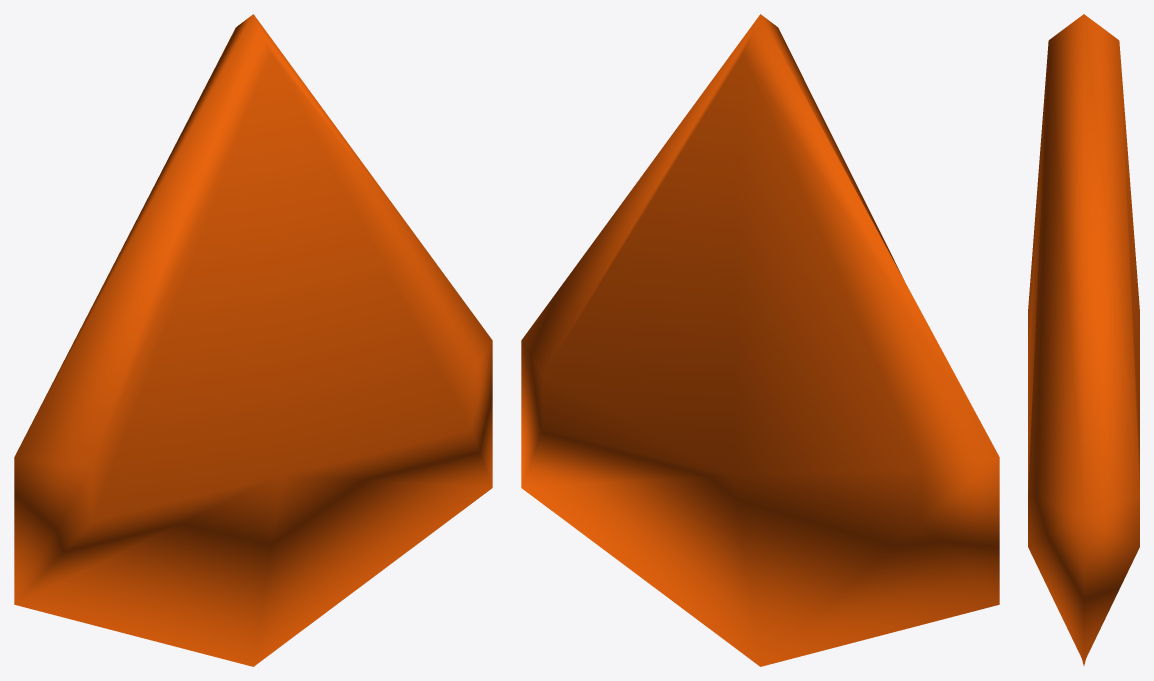
Rendered from arrowUp.fbx.
The picture shows the model from 3 angles, left to right: view 1: azimuth 30°, elevation 25°; view 2: azimuth 150°, elevation 25°; view 3: azimuth 270°, elevation 25°; orthographic projection.
Parts seen in each view (by area): view 1: arrow; view 2: arrow; view 3: arrow.
Boxes of the visible parts, left/top/right/bottom form: arrow: left=14, top=14, right=492, bottom=666; arrow: left=521, top=14, right=999, bottom=666; arrow: left=1028, top=14, right=1139, bottom=665.
Size of the model in its own units: 22.87 by 29.84 by 4.63.
